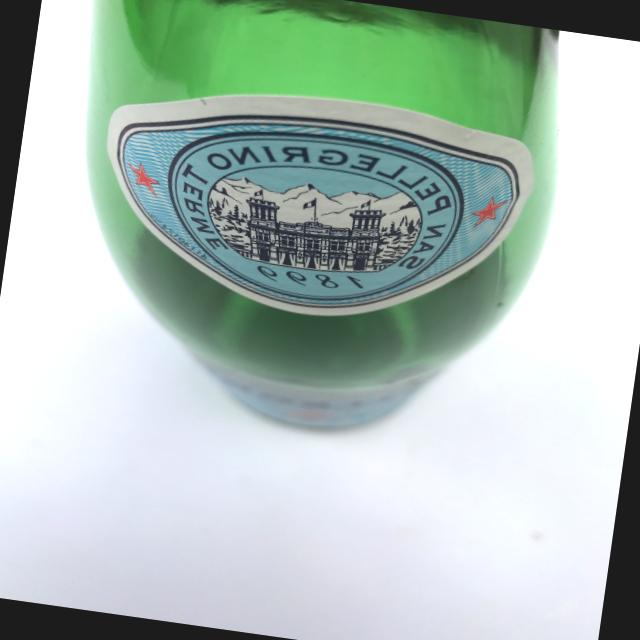Glass: (14, 0, 586, 467)
